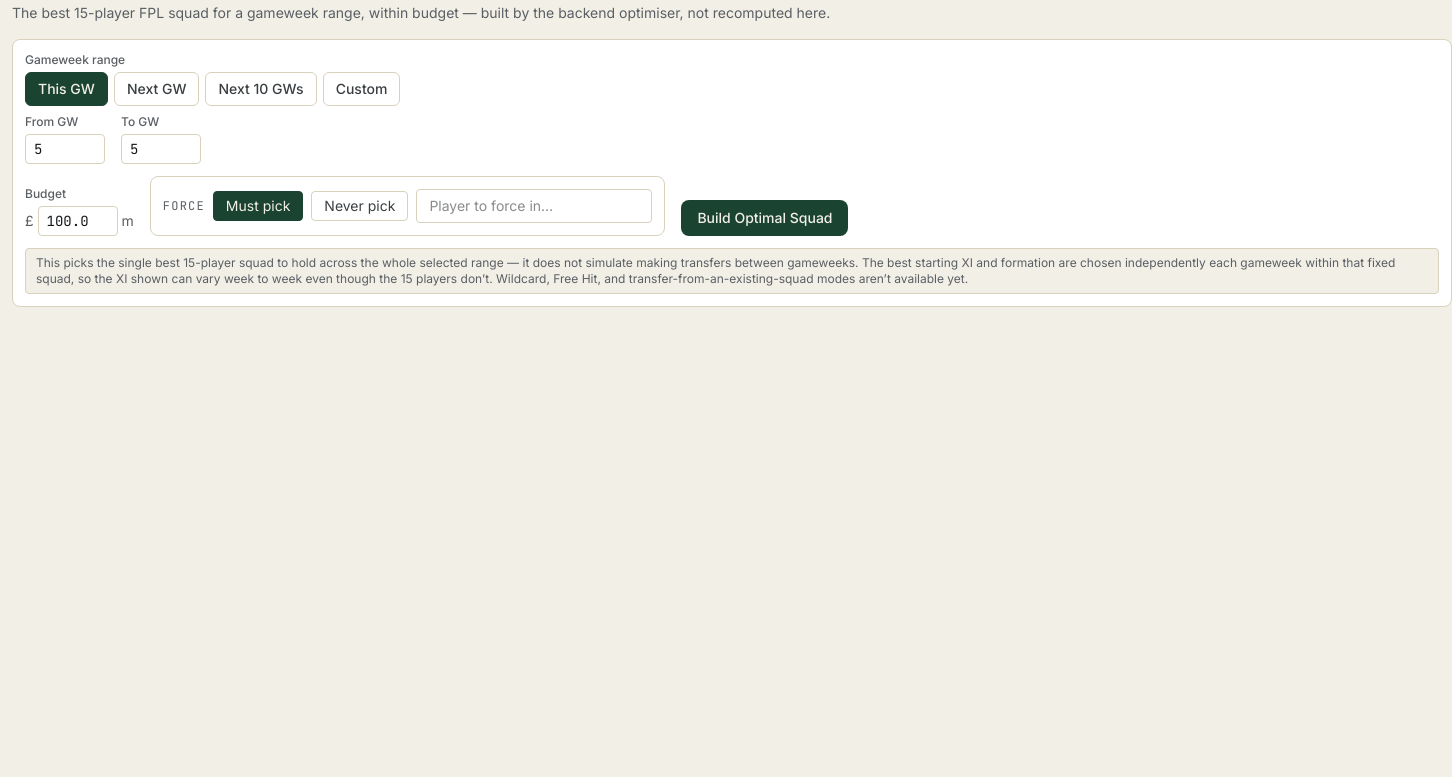
OptimalSquadPage › enriches the pitch with tactical role, season PPG, and set-piece info once the enrichment fetch resolves
Expected: the button "This GW" is shown, [25,72,108,106]
Click the button "Build Optimal Squad": point(765, 218) [681,200,848,236]
(page scrolled)
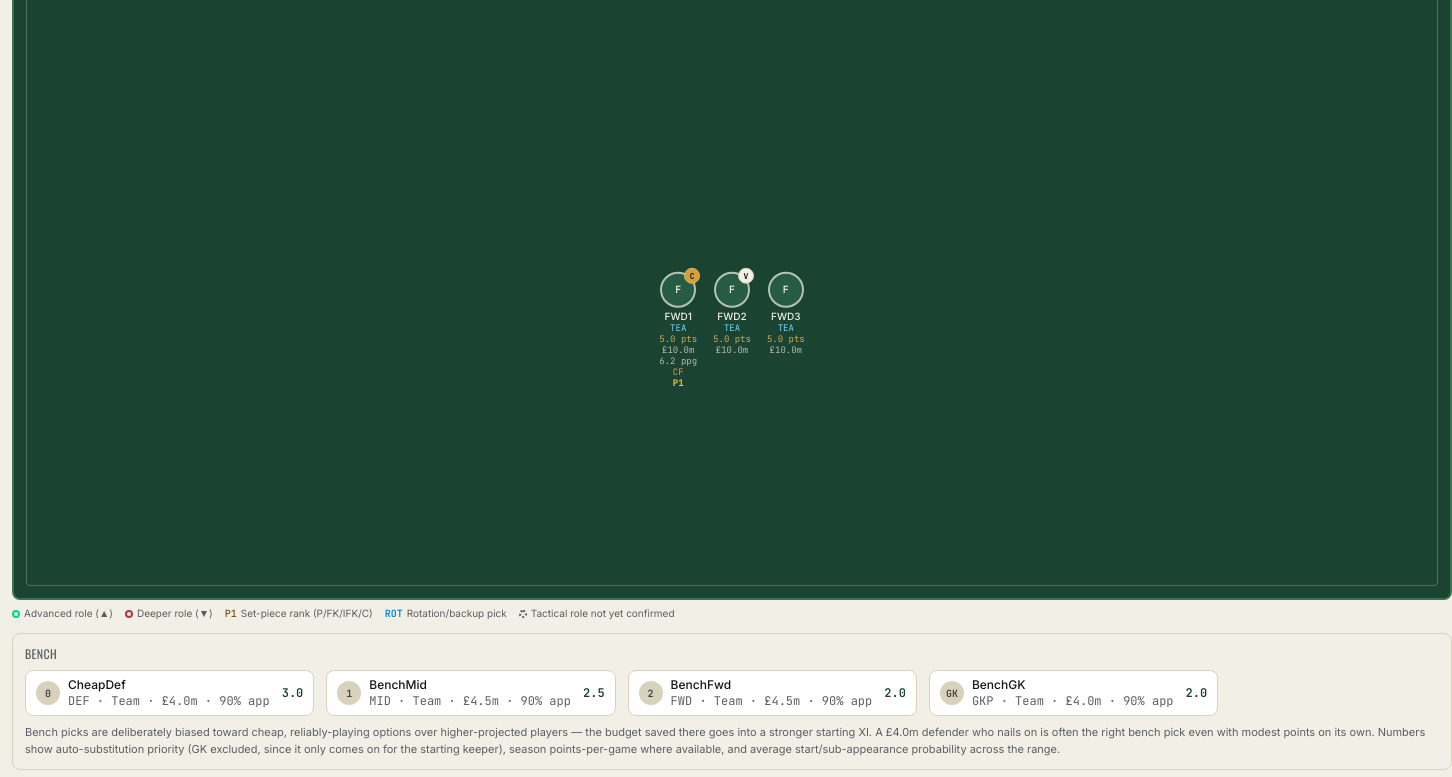
Expected: the text "6.2 ppg" is shown, [659,357,697,366]
Expected: the text "CF" is shown, [673,368,684,377]
